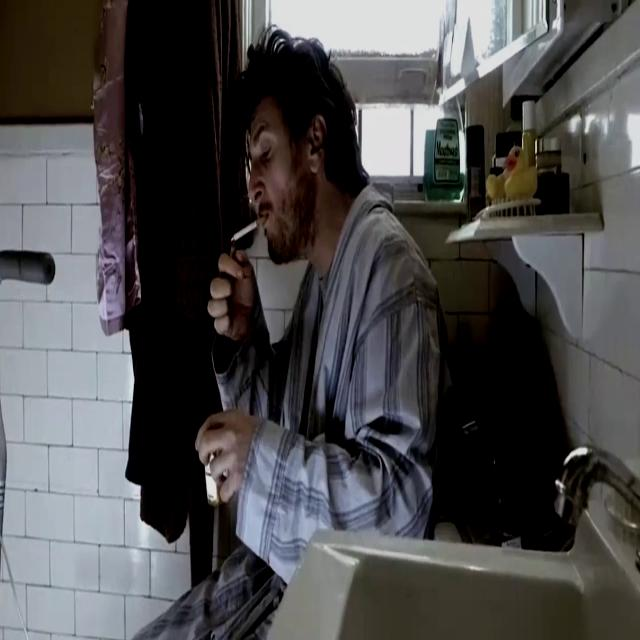Smooking: (230, 212, 268, 246)
